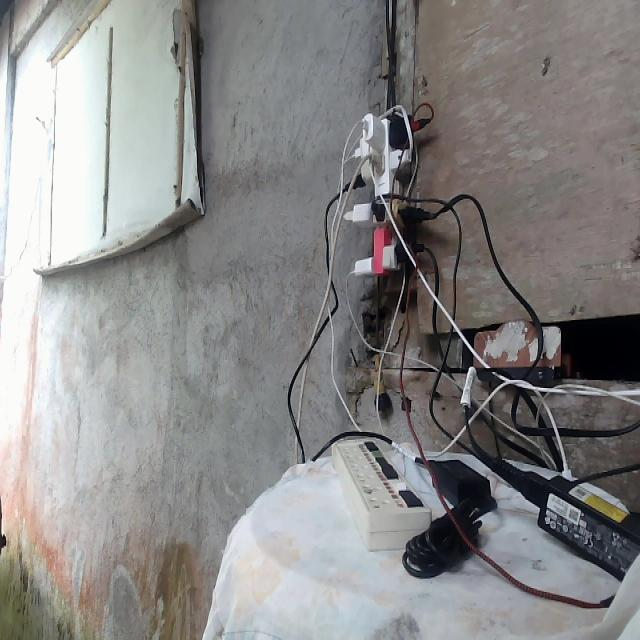-: (336, 107, 426, 277)
